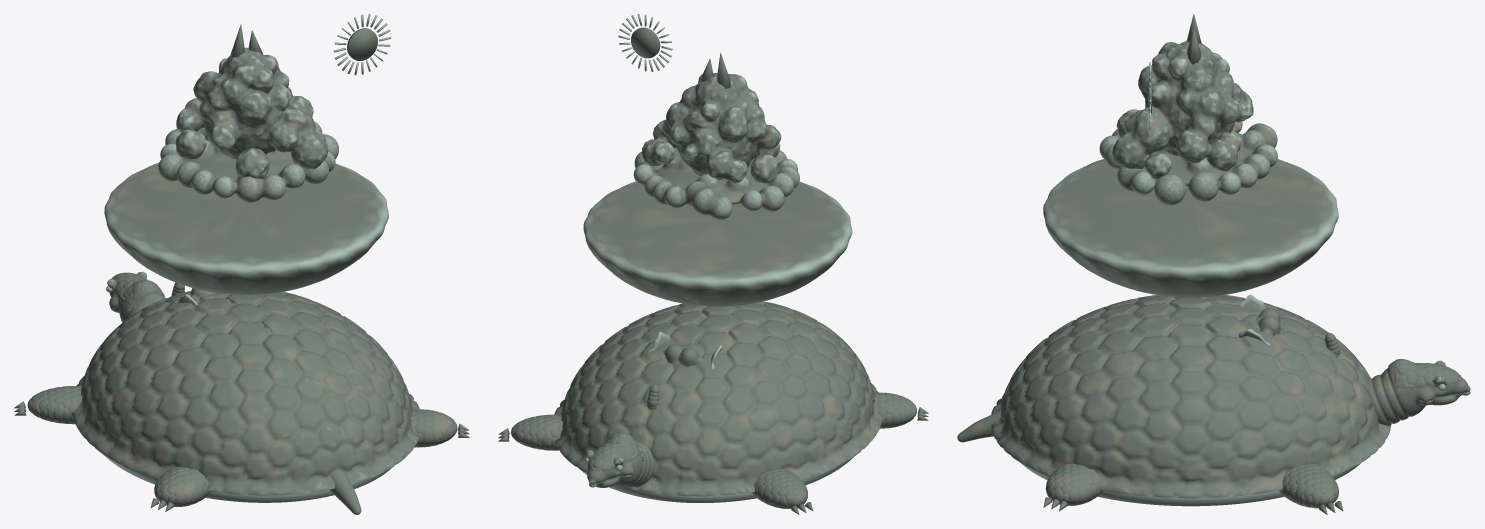
Rendered from india-cosmos.glb.
3 views of the same model, side by side, from view 1: azimuth 30°, elevation 25°; view 2: azimuth 150°, elevation 25°; view 3: azimuth 270°, elevation 25° (orthographic). The views are drawn at different scales.
Parts seen in each view (by area): view 1: turtle, land, sun, elephant; view 2: turtle, land, sun, elephant; view 3: turtle, land, elephant.
Boxes of the visible parts, x1,y1,x2,y2 form: turtle: (14, 271, 469, 514); land: (104, 24, 388, 294); sun: (333, 14, 391, 75); elephant: (171, 282, 271, 334); turtle: (498, 301, 928, 514); land: (583, 52, 852, 306); sun: (618, 14, 672, 71); elephant: (647, 310, 738, 409); turtle: (957, 295, 1470, 514); land: (1043, 14, 1338, 297); elephant: (1142, 294, 1340, 357).
Size of the model in its own units: 2.94 by 3.52 by 3.78.
